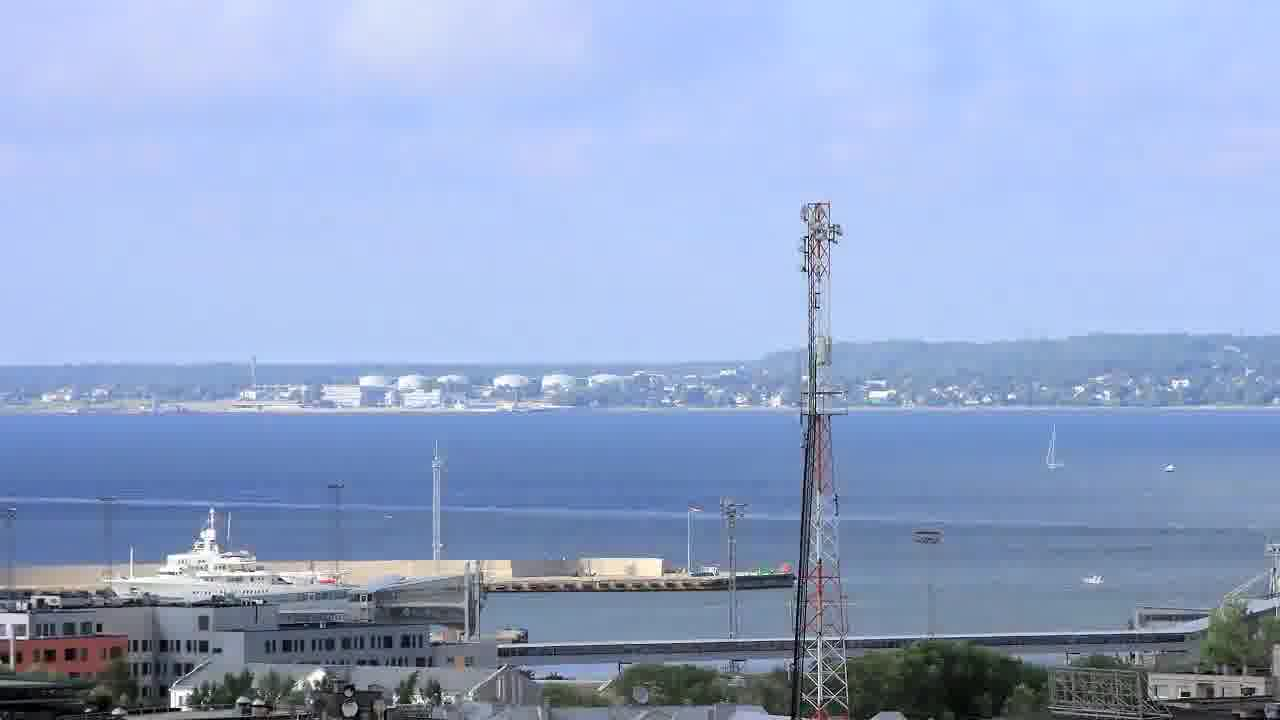type-2: (1023, 422, 1083, 483)
type-3: (96, 508, 381, 605)
type-4: (1073, 559, 1111, 599), (1150, 452, 1189, 483)
